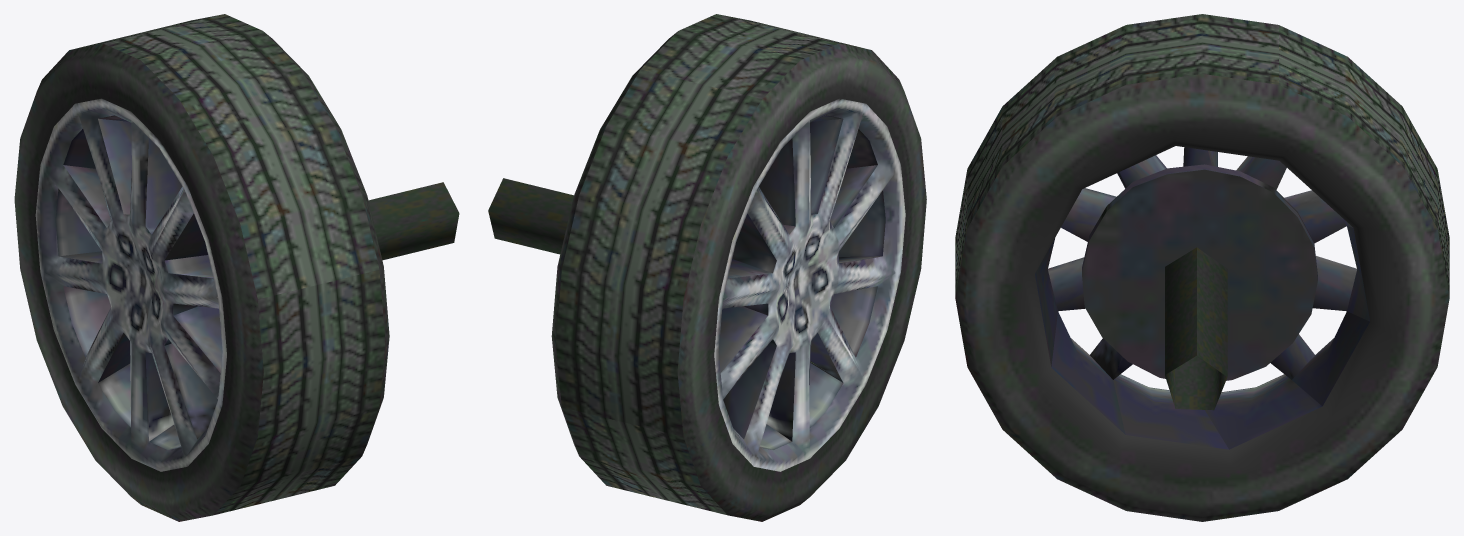
The model's file is wheelCentered.dae.
3 views of the same model, side by side, from view 1: azimuth 30°, elevation 25°; view 2: azimuth 150°, elevation 25°; view 3: azimuth 270°, elevation 25° (orthographic).
Parts seen in each view (by area): view 1: lincoln_exterior_004; view 2: lincoln_exterior_004; view 3: lincoln_exterior_004.
Part boxes in pixels (x1,y1,x2,y2): lincoln_exterior_004: [14, 14, 459, 521]; lincoln_exterior_004: [488, 14, 926, 521]; lincoln_exterior_004: [955, 14, 1449, 521].
Bounding box in the file's own units: 1.09 × 1.5 × 1.5.
Materials: 1 (1 with a texture image).
